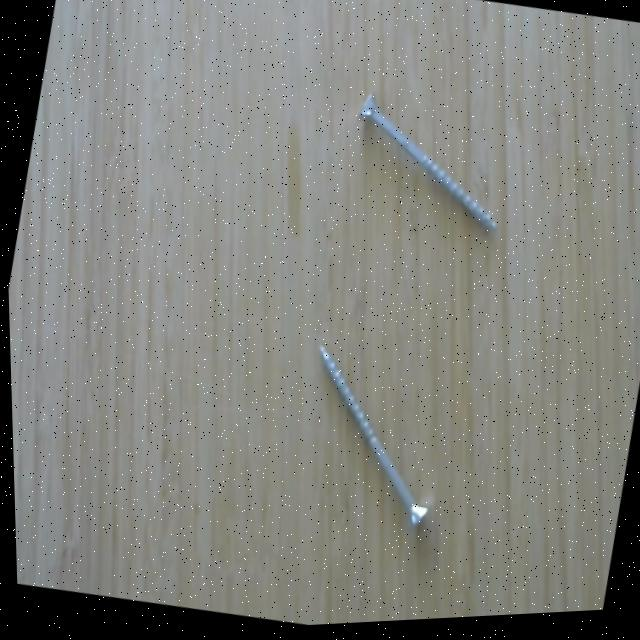Long screw: (277, 330, 460, 551), (333, 82, 523, 252)
